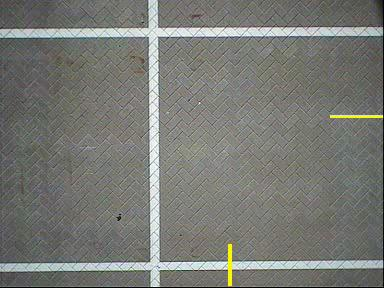groundmarker_2: (141, 18, 192, 58)
